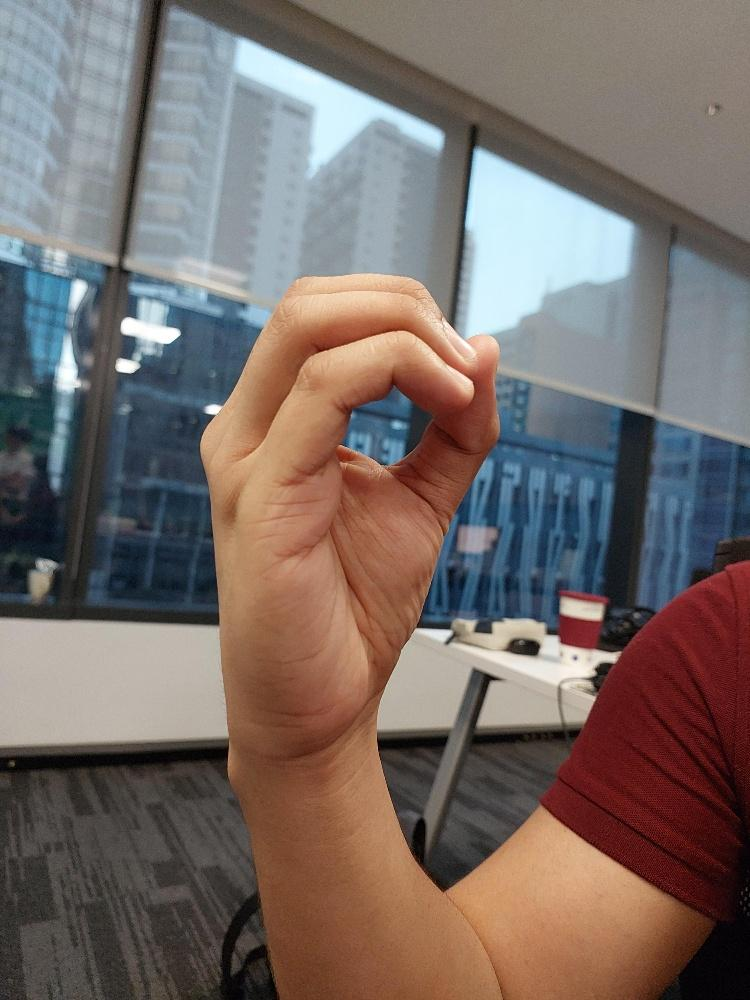o: (196, 268, 501, 756)
